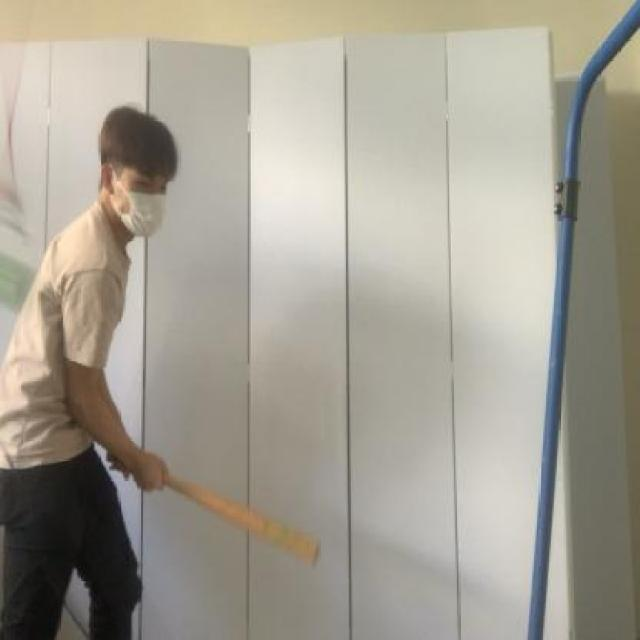baseball: (0, 238, 55, 324)
